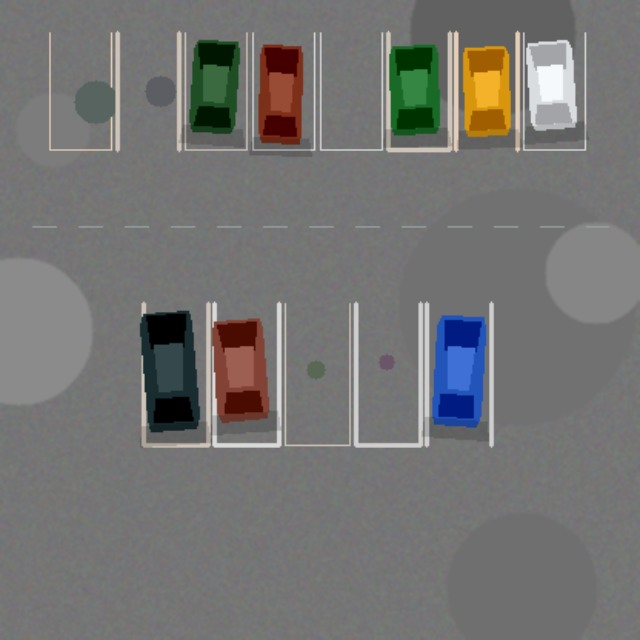space-empty: (355, 303, 420, 445), (285, 303, 349, 445), (49, 32, 111, 149), (320, 32, 382, 149), (117, 32, 178, 149)
space-occupied: (143, 303, 208, 445), (426, 303, 491, 445), (214, 303, 278, 445), (252, 32, 314, 149), (455, 32, 517, 149), (523, 32, 585, 149), (185, 32, 246, 149), (388, 32, 449, 149)
